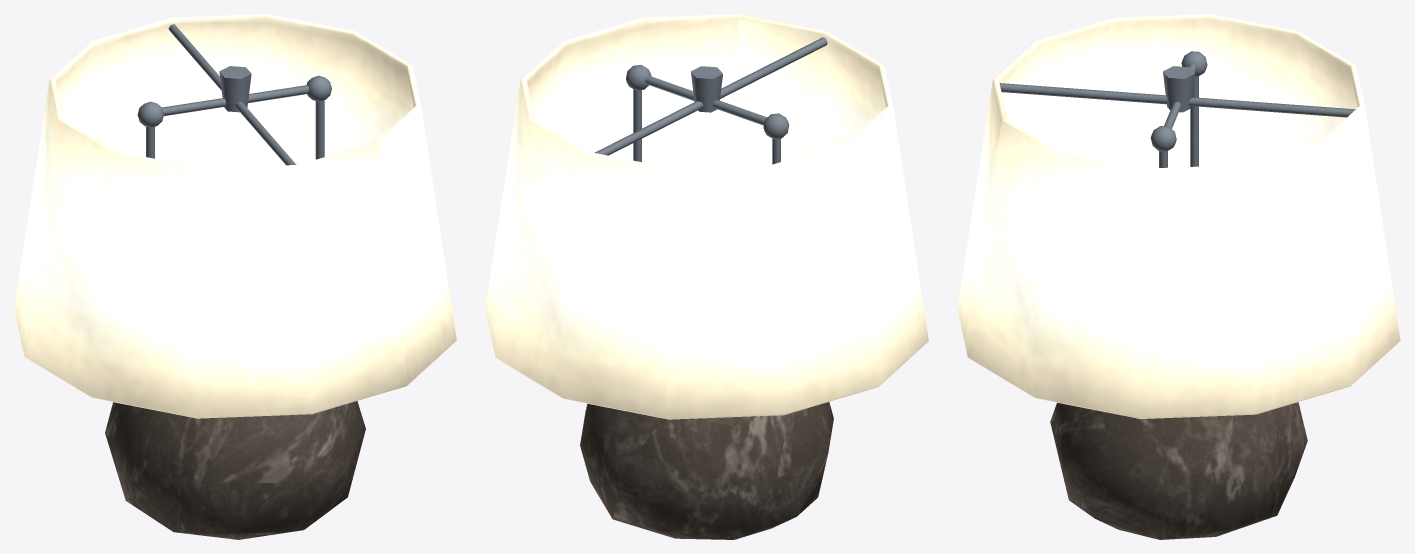
File: Lights_Table_Lamps_7.fbx
3 renders of one model, left to right at view 1: azimuth 30°, elevation 25°; view 2: azimuth 150°, elevation 25°; view 3: azimuth 270°, elevation 25°, orthographic.
Visible parts, largest first — view 1: Cylinder.001; view 2: Cylinder.001; view 3: Cylinder.001.
Boxes of the visible parts, x1=… form: Cylinder.001: x1=14, y1=14, x2=456, y2=539; Cylinder.001: x1=485, y1=14, x2=928, y2=539; Cylinder.001: x1=957, y1=14, x2=1400, y2=539.
Bounding box in the file's own units: 43.06 × 46.4 × 43.06.
